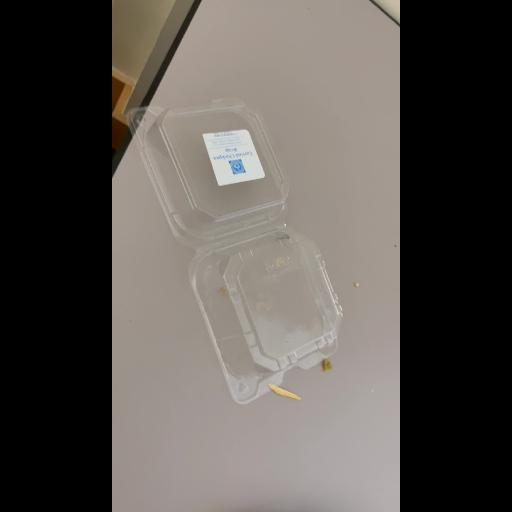small_plastic_container: (123, 102, 347, 406)
